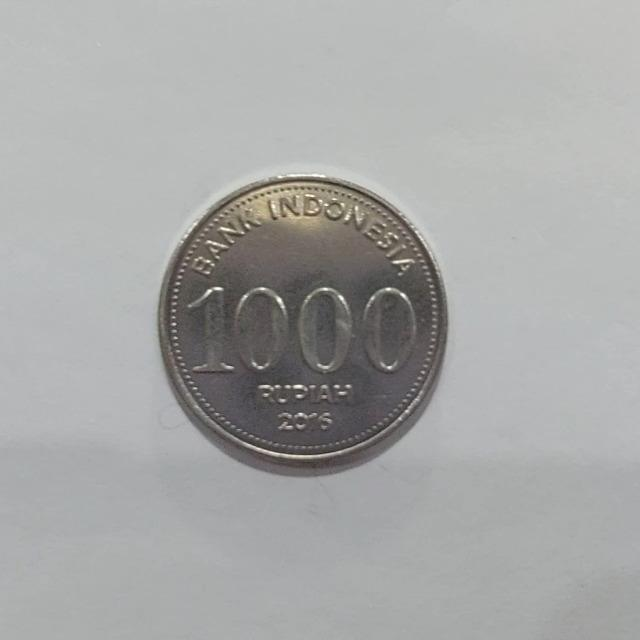Rp100: (156, 171, 449, 475)
